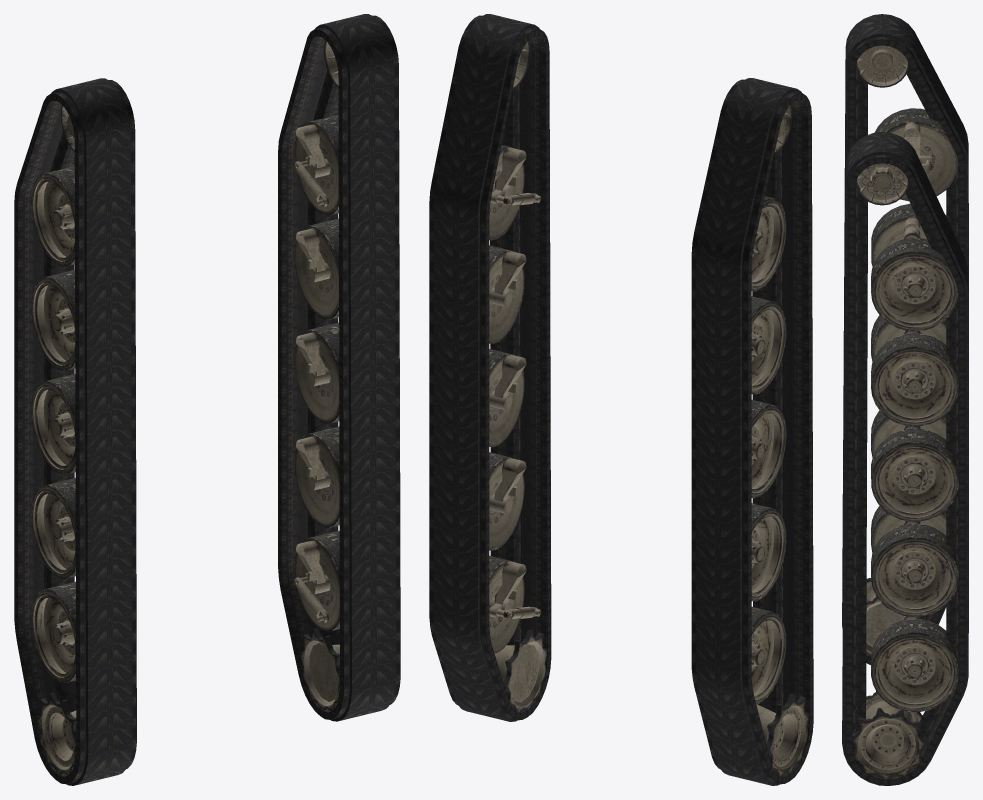
Rendered from Chassis.glb.
3 renders of one model, left to right at view 1: azimuth 30°, elevation 25°; view 2: azimuth 150°, elevation 25°; view 3: azimuth 270°, elevation 25°, orthographic. The views are drawn at different scales.
Parts seen in each view (by area): view 1: set_1_group_0, set_0_group_0, set_3_group_0, set_2_group_0; view 2: set_1_group_0, set_0_group_0, set_3_group_0, set_2_group_0; view 3: set_3_group_0, set_0_group_0, set_2_group_0, set_1_group_0.
Boxes of the visible parts, x1=… form: set_1_group_0: x1=14, y1=78, x2=136, y2=785; set_0_group_0: x1=278, y1=14, x2=400, y2=721; set_3_group_0: x1=293, y1=41, x2=339, y2=711; set_2_group_0: x1=31, y1=105, x2=76, y2=775; set_1_group_0: x1=691, y1=78, x2=813, y2=785; set_0_group_0: x1=429, y1=14, x2=551, y2=721; set_3_group_0: x1=489, y1=40, x2=546, y2=712; set_2_group_0: x1=751, y1=105, x2=808, y2=776; set_3_group_0: x1=852, y1=163, x2=958, y2=779; set_0_group_0: x1=842, y1=132, x2=968, y2=785; set_2_group_0: x1=855, y1=45, x2=958, y2=656; set_1_group_0: x1=842, y1=14, x2=968, y2=664.
Bounding box in the file's own units: 3.08 × 6.36 × 1.15.
Materials: 4 (4 with a texture image).
